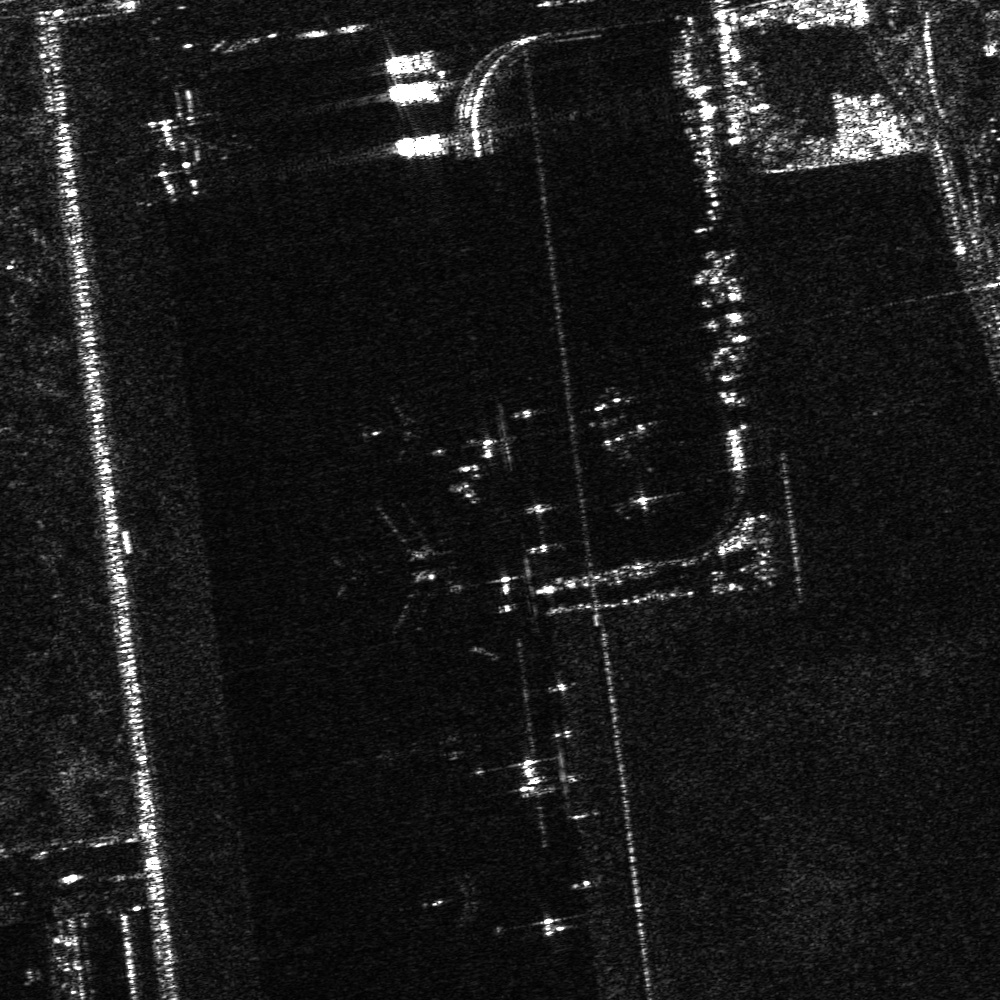Boeing787: (328, 496, 457, 633), (353, 389, 430, 462), (419, 863, 494, 931)
other: (128, 109, 220, 205)
